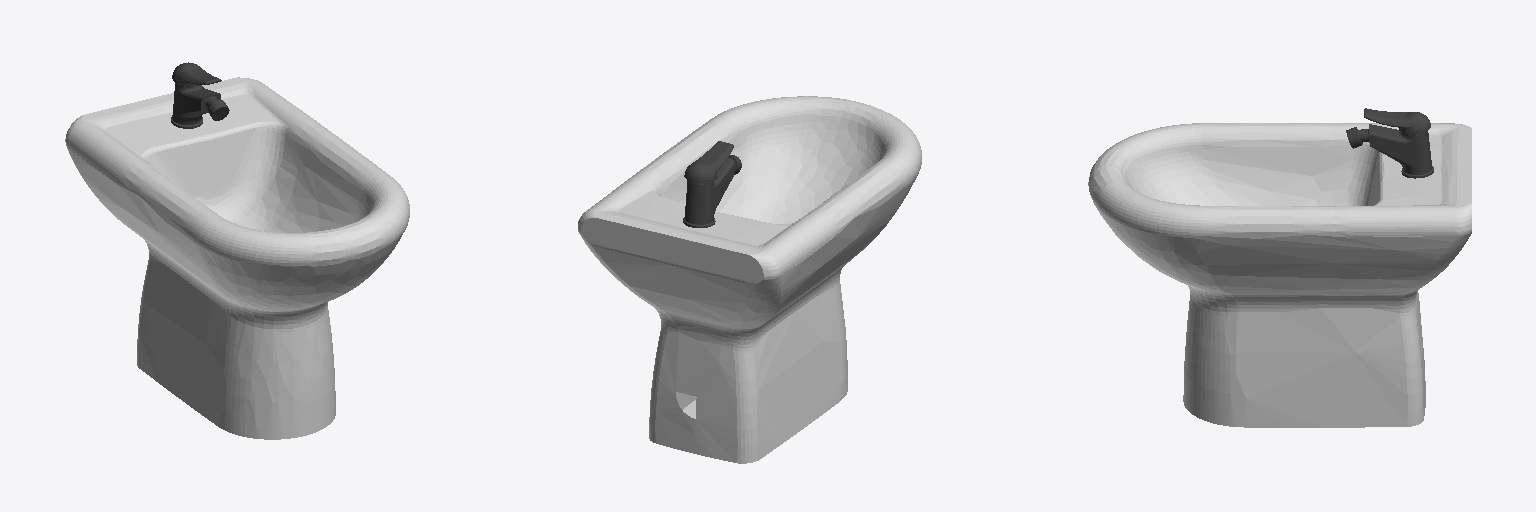
File: bidet.obj
3 views of the same model, side by side, from view 1: azimuth 30°, elevation 25°; view 2: azimuth 150°, elevation 25°; view 3: azimuth 270°, elevation 25° (orthographic).
Parts seen in each view (by area): view 1: CERSANIT_bidet_stoj_cy_IRYDA_CERAMIKA_CERSANIT, CERSANIT_bidet_stoj_cy_IRYDA_CHROM_CERSANIT; view 2: CERSANIT_bidet_stoj_cy_IRYDA_CERAMIKA_CERSANIT, CERSANIT_bidet_stoj_cy_IRYDA_CHROM_CERSANIT; view 3: CERSANIT_bidet_stoj_cy_IRYDA_CERAMIKA_CERSANIT, CERSANIT_bidet_stoj_cy_IRYDA_CHROM_CERSANIT.
Part boxes in pixels (x1,y1,x2,y2): CERSANIT_bidet_stoj_cy_IRYDA_CERAMIKA_CERSANIT: (65, 77, 409, 439); CERSANIT_bidet_stoj_cy_IRYDA_CHROM_CERSANIT: (171, 62, 229, 128); CERSANIT_bidet_stoj_cy_IRYDA_CERAMIKA_CERSANIT: (578, 96, 921, 463); CERSANIT_bidet_stoj_cy_IRYDA_CHROM_CERSANIT: (683, 141, 741, 227); CERSANIT_bidet_stoj_cy_IRYDA_CERAMIKA_CERSANIT: (1088, 123, 1471, 427); CERSANIT_bidet_stoj_cy_IRYDA_CHROM_CERSANIT: (1346, 108, 1433, 178).
Bounding box in the file's own units: 360 × 488 × 585.